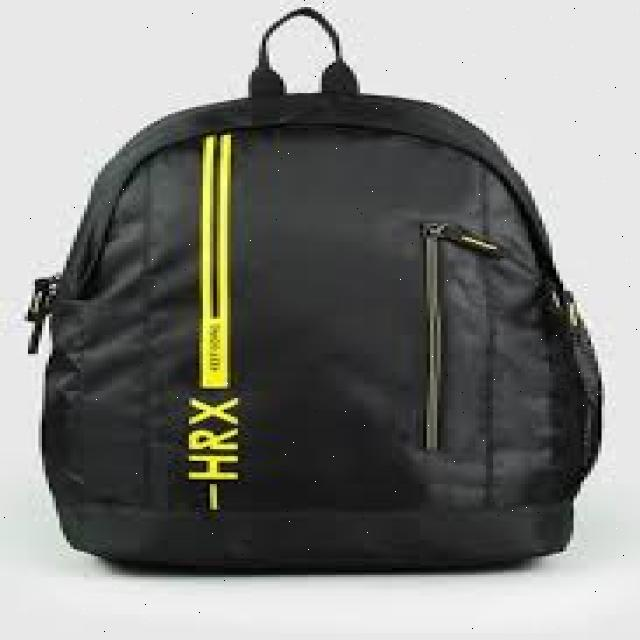backpack: (25, 5, 605, 572)
